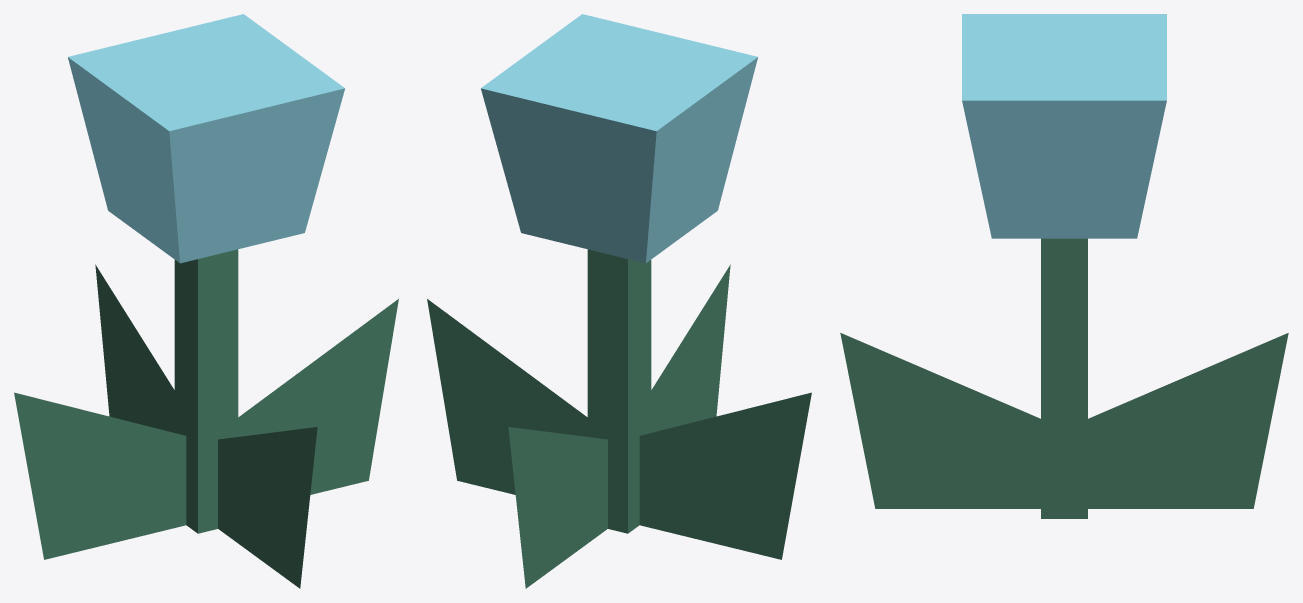
File: Flower_Tall_Yellow_02.obj
3 renders of one model, left to right at view 1: azimuth 30°, elevation 25°; view 2: azimuth 150°, elevation 25°; view 3: azimuth 270°, elevation 25°, orthographic.
Parts seen in each view (by area): view 1: Mesh1_Flower_Tall_Yellow_Model.001; view 2: Mesh1_Flower_Tall_Yellow_Model.001; view 3: Mesh1_Flower_Tall_Yellow_Model.001.
Boxes of the visible parts, x1,y1,x2,y2 form: Mesh1_Flower_Tall_Yellow_Model.001: (14, 14, 398, 588); Mesh1_Flower_Tall_Yellow_Model.001: (427, 14, 811, 588); Mesh1_Flower_Tall_Yellow_Model.001: (840, 14, 1288, 518).
Size of the model in its own units: 0.4859 by 0.54 by 0.4859.
